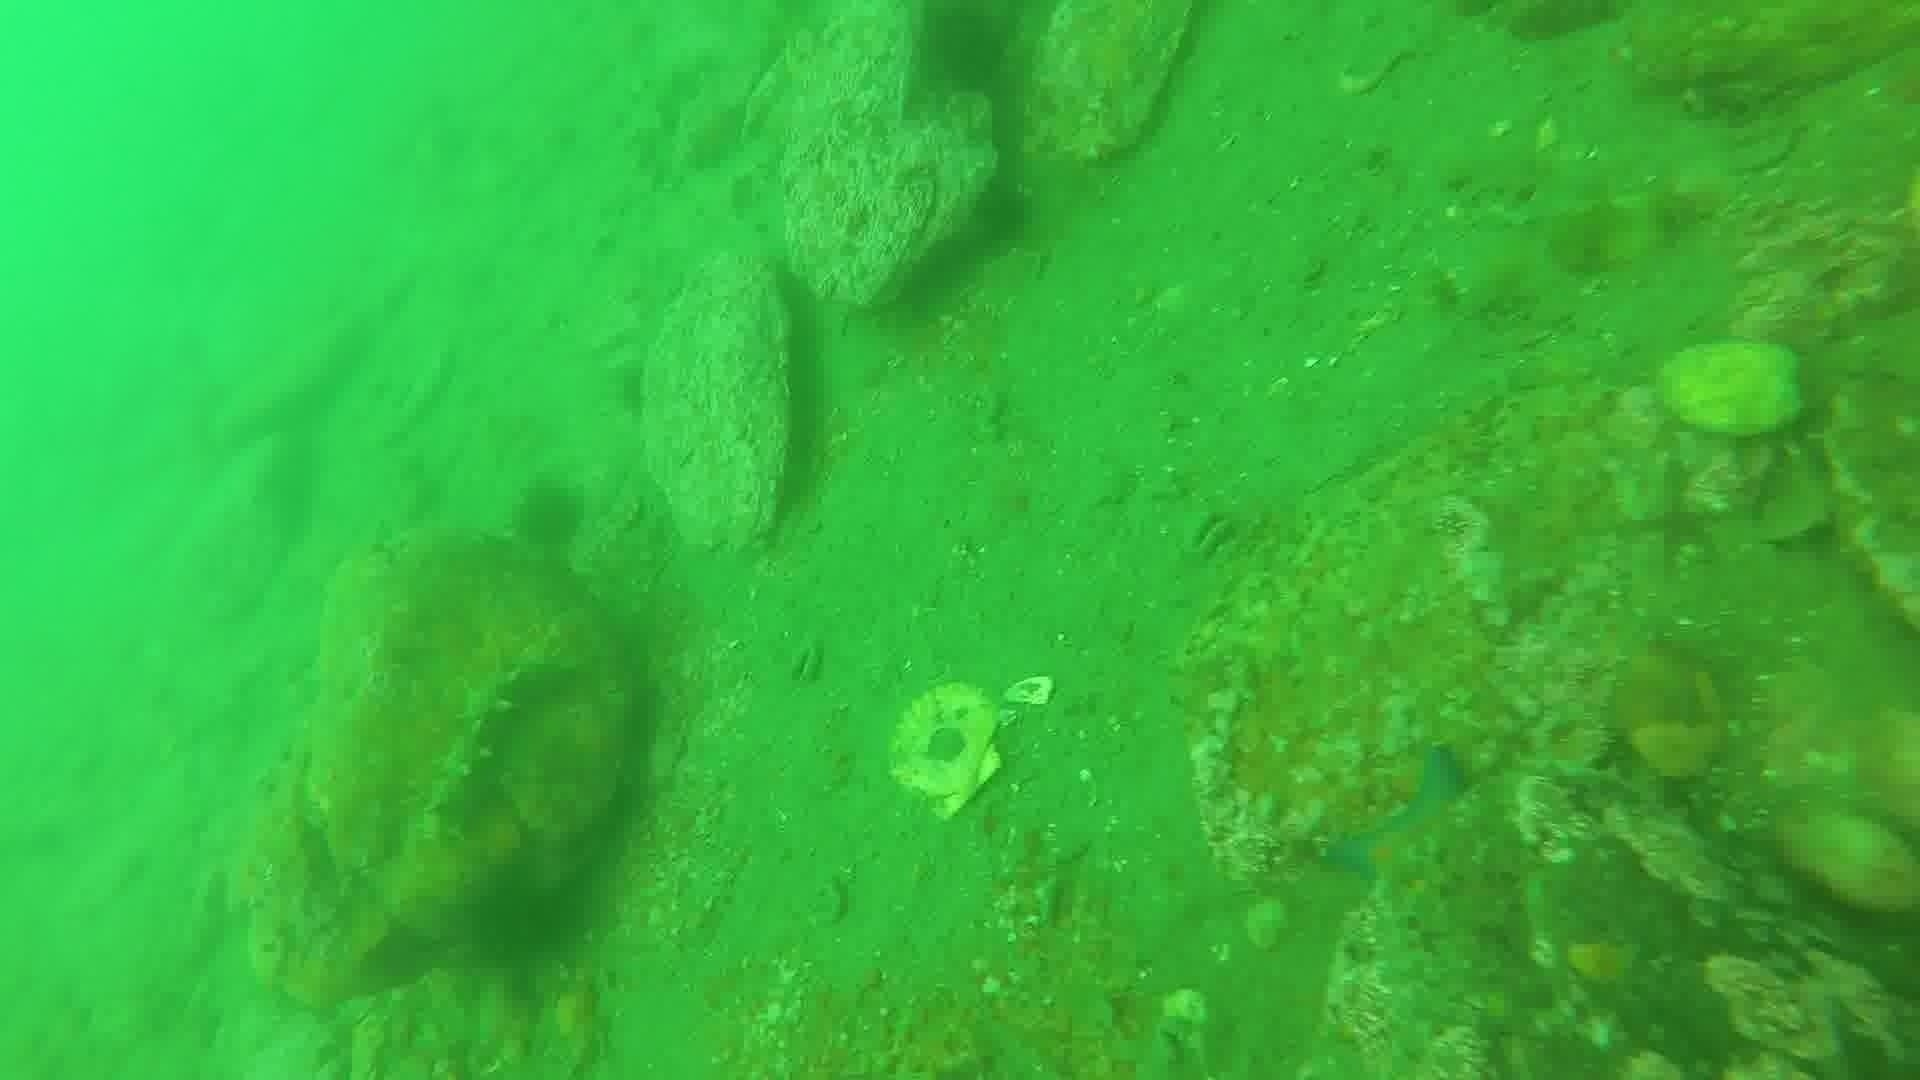echinus: (456, 852, 593, 982), (909, 4, 1023, 99), (508, 476, 589, 556), (967, 174, 1040, 252)
holothurian: (425, 659, 516, 833)
scallop: (881, 680, 1011, 818)
starfish: (1321, 742, 1516, 945)
